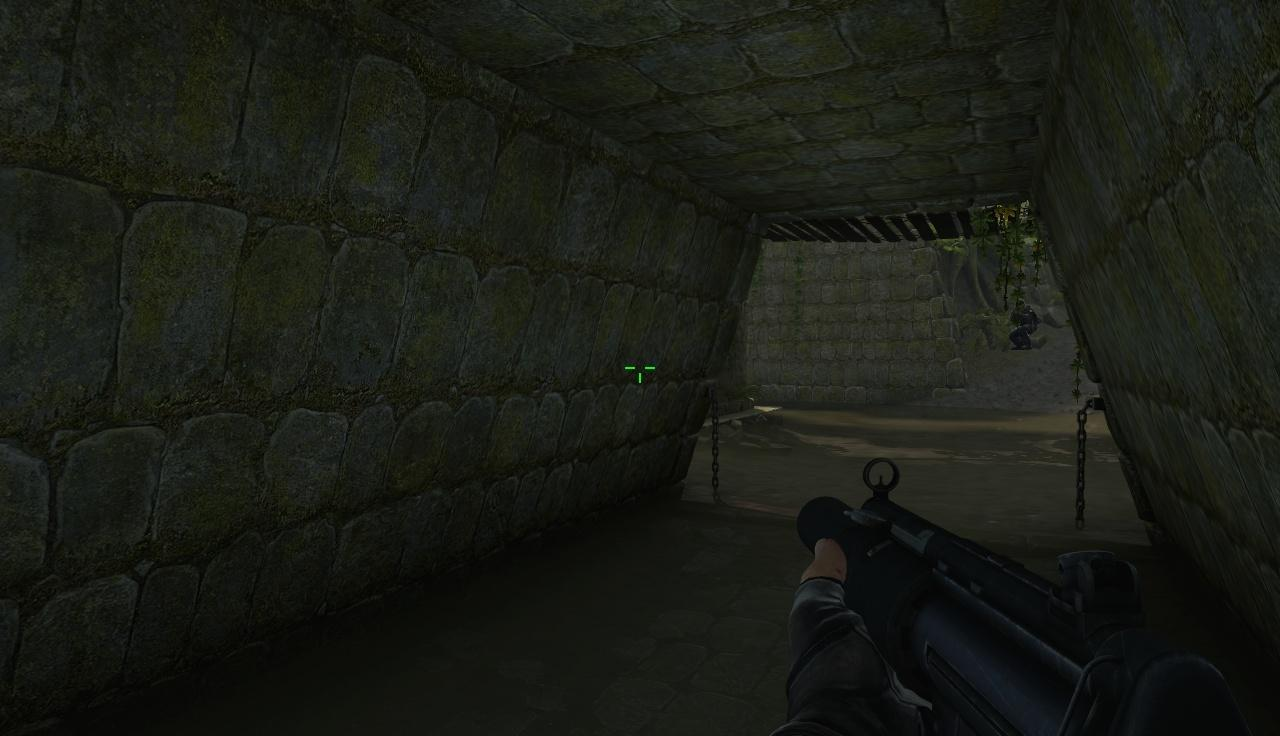rifle: (797, 456, 1280, 732)
